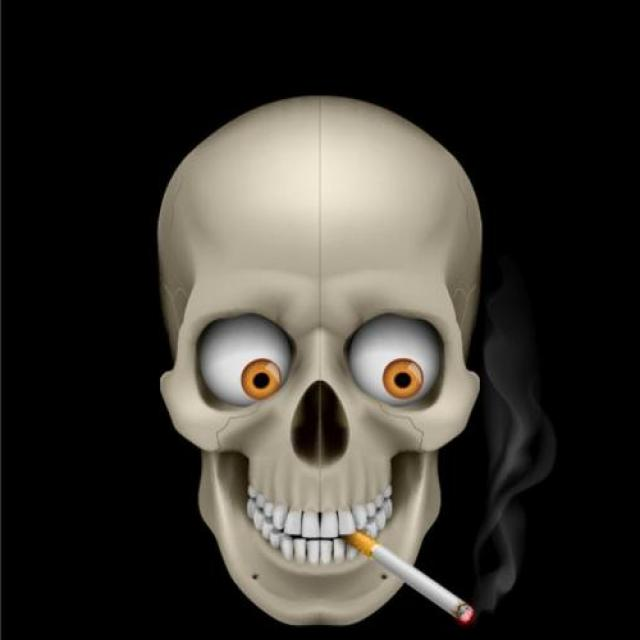smoking: (344, 530, 484, 623)
